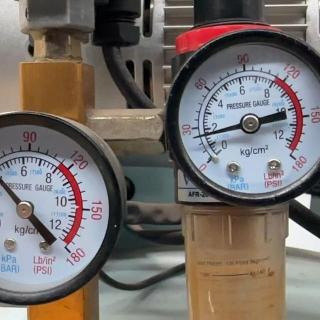gauge: (163, 22, 319, 208), (0, 110, 126, 312), (239, 112, 261, 134), (198, 152, 218, 172), (15, 200, 34, 220), (285, 148, 303, 168), (59, 238, 75, 260), (189, 133, 199, 141)
